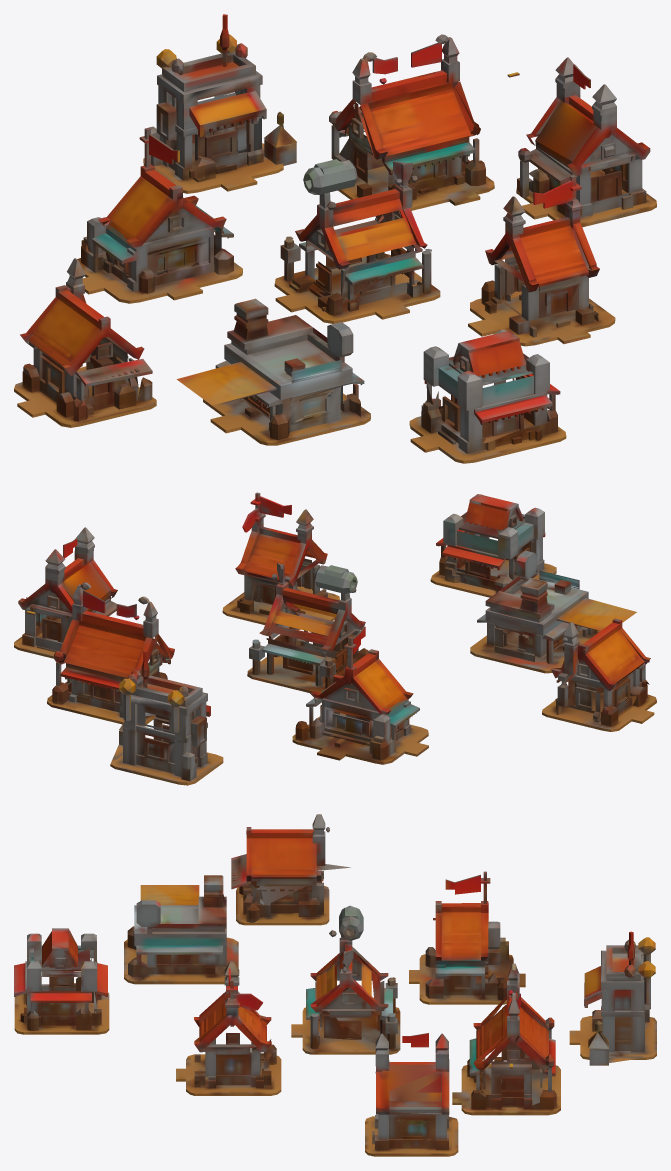
The model's file is market.fbx.
The picture shows the model from 3 angles, top to bottom: view 1: azimuth 30°, elevation 25°; view 2: azimuth 150°, elevation 25°; view 3: azimuth 270°, elevation 25°; orthographic projection. The views are drawn at different scales.
Parts seen in each view (by area): view 1: texture_pbr_v128; view 2: texture_pbr_v128; view 3: texture_pbr_v128.
Boxes of the visible parts, bbox=[...] form: texture_pbr_v128: bbox=[14, 14, 656, 463]; texture_pbr_v128: bbox=[14, 492, 656, 785]; texture_pbr_v128: bbox=[14, 814, 656, 1156].
Size of the model in its own units: 190 by 37.04 by 188.
1 material, 1 textured.
